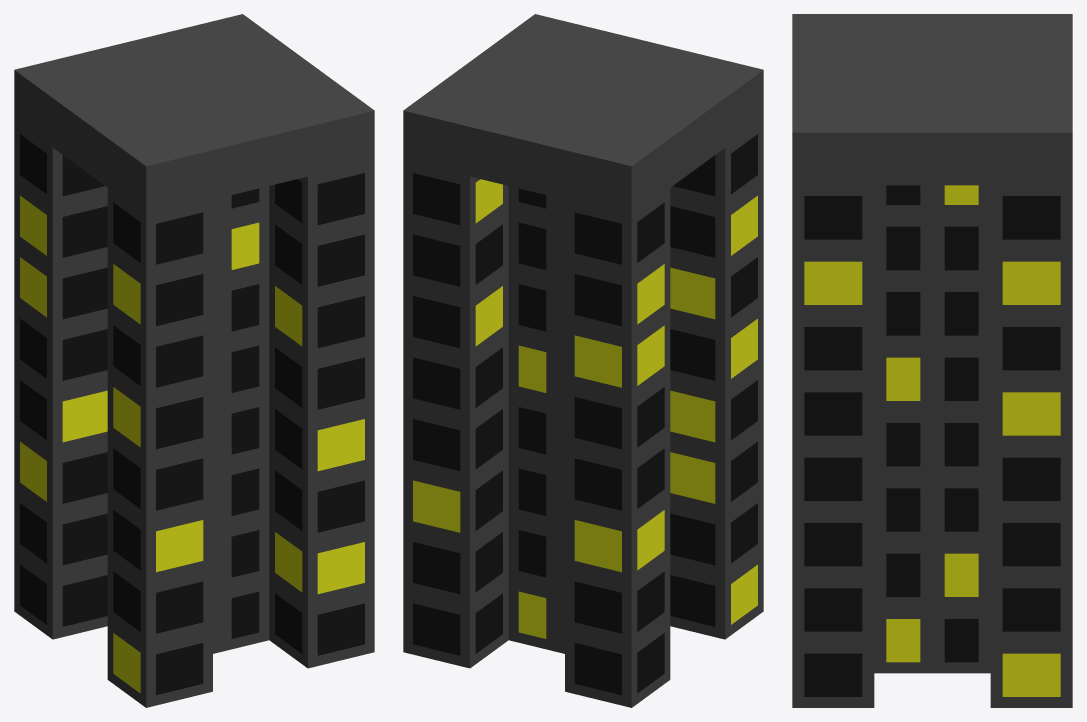
File: Tower_2.FBX
3 renders of one model, left to right at view 1: azimuth 30°, elevation 25°; view 2: azimuth 150°, elevation 25°; view 3: azimuth 270°, elevation 25°, orthographic. The views are drawn at different scales.
Parts seen in each view (by area): view 1: Box002; view 2: Box002; view 3: Box002.
Boxes of the visible parts, left/top/right/bottom form: Box002: left=14, top=14, right=374, bottom=707; Box002: left=403, top=14, right=763, bottom=707; Box002: left=792, top=14, right=1072, bottom=707.
Size of the model in its own units: 48.22 by 109 by 48.22.
